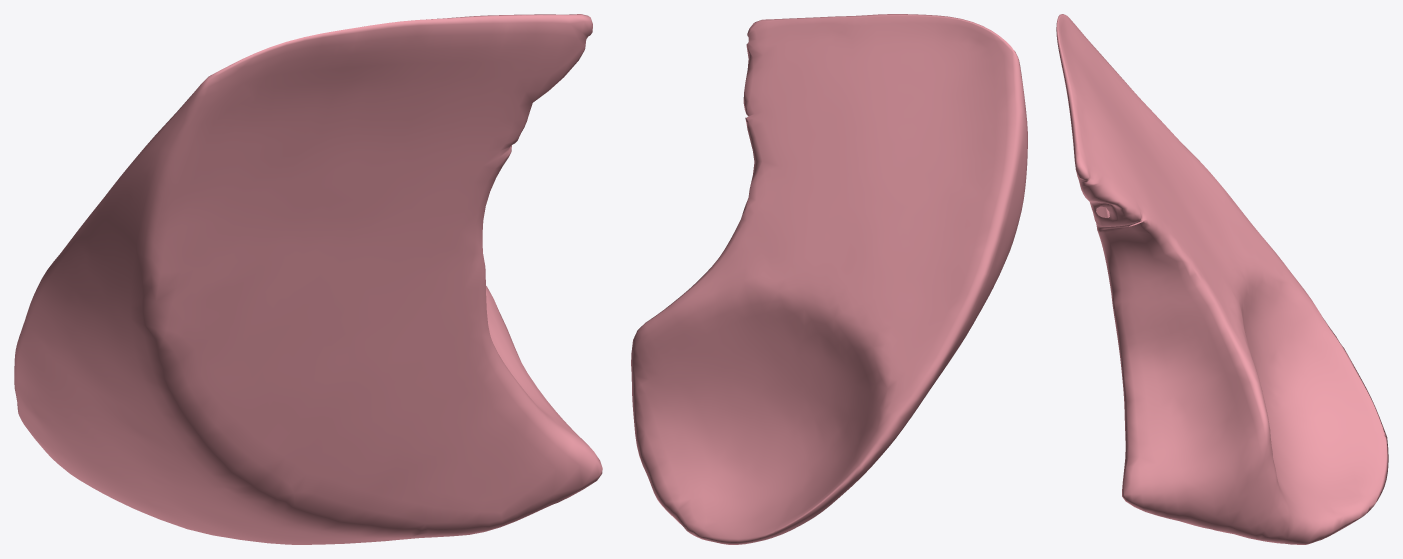
3 renders of one model, left to right at view 1: azimuth 30°, elevation 25°; view 2: azimuth 150°, elevation 25°; view 3: azimuth 270°, elevation 25°, orthographic. The views are drawn at different scales.
Parts seen in each view (by area): view 1: 右肺中叶; view 2: 右肺中叶; view 3: 右肺中叶.
Part boxes in pixels (box(x1,y1,x2,y2)): 右肺中叶: box(14, 14, 602, 544); 右肺中叶: box(631, 14, 1027, 544); 右肺中叶: box(1056, 14, 1388, 544).
Size of the model in its own units: 0.1736 by 0.221 by 0.1527.
